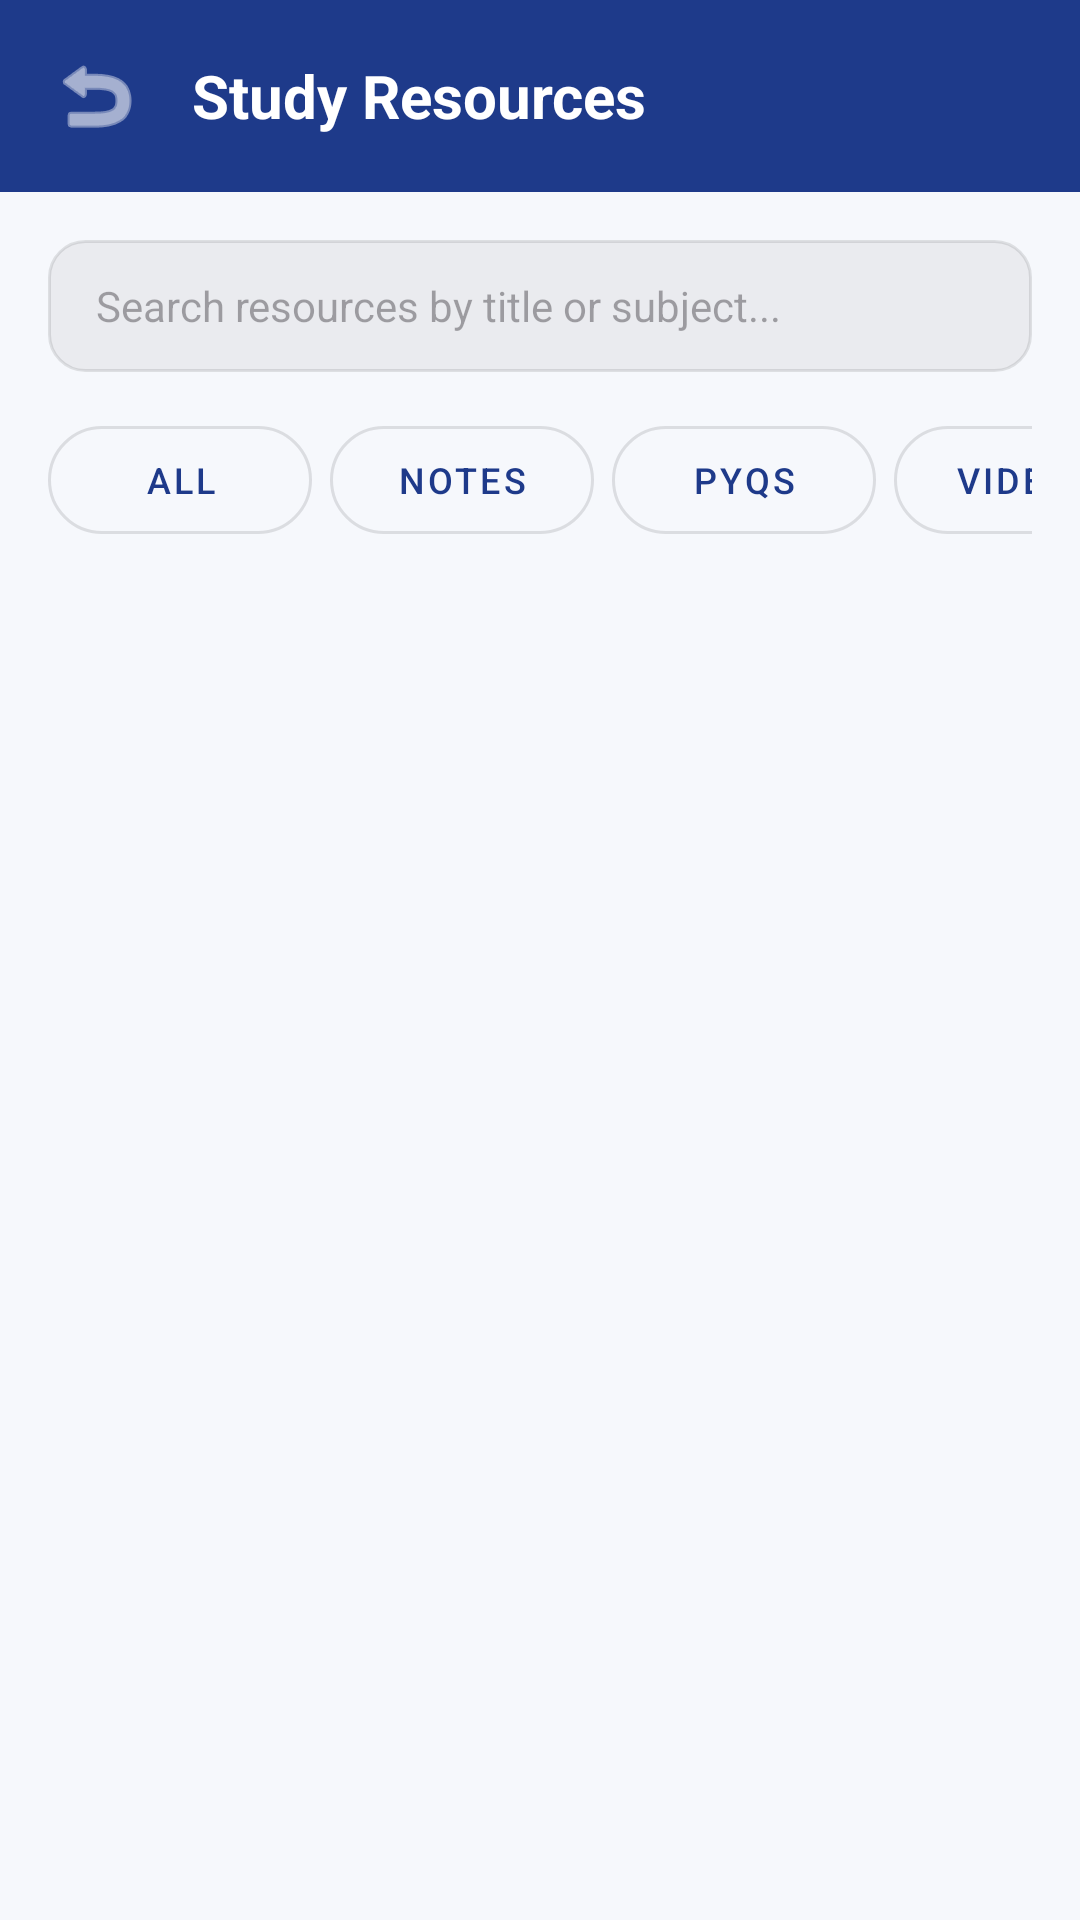

Screen size 1080 x 1920. Icon name, then its box in pixels as (x1, y1, x2, y2):
Back: (63, 65, 132, 128)
